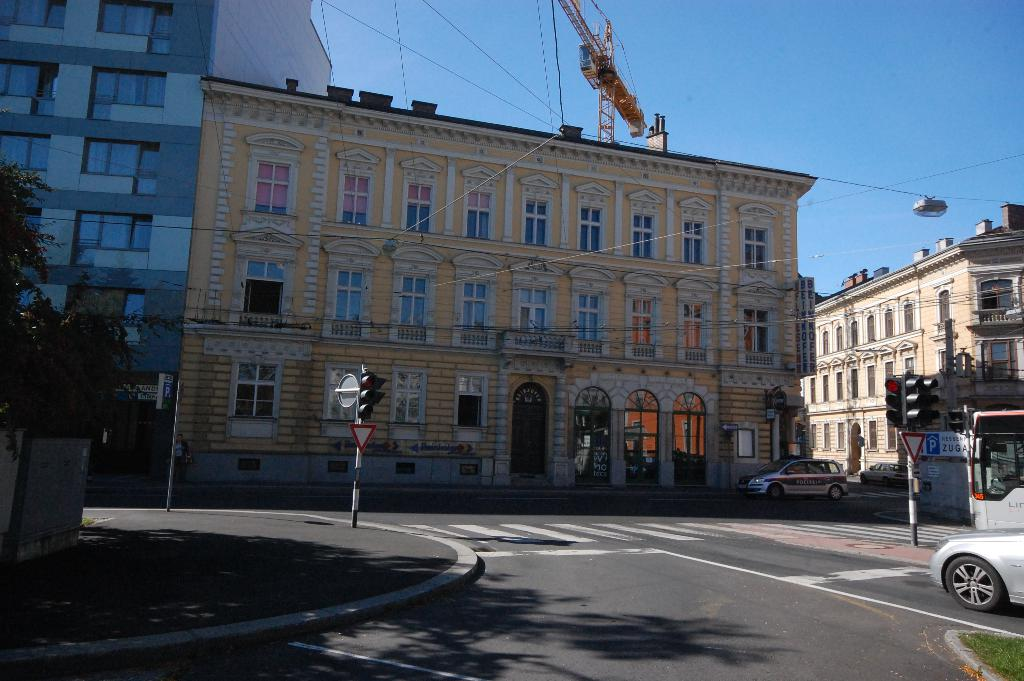cars: (933, 527, 1023, 612), (736, 457, 850, 503), (860, 463, 907, 488)
